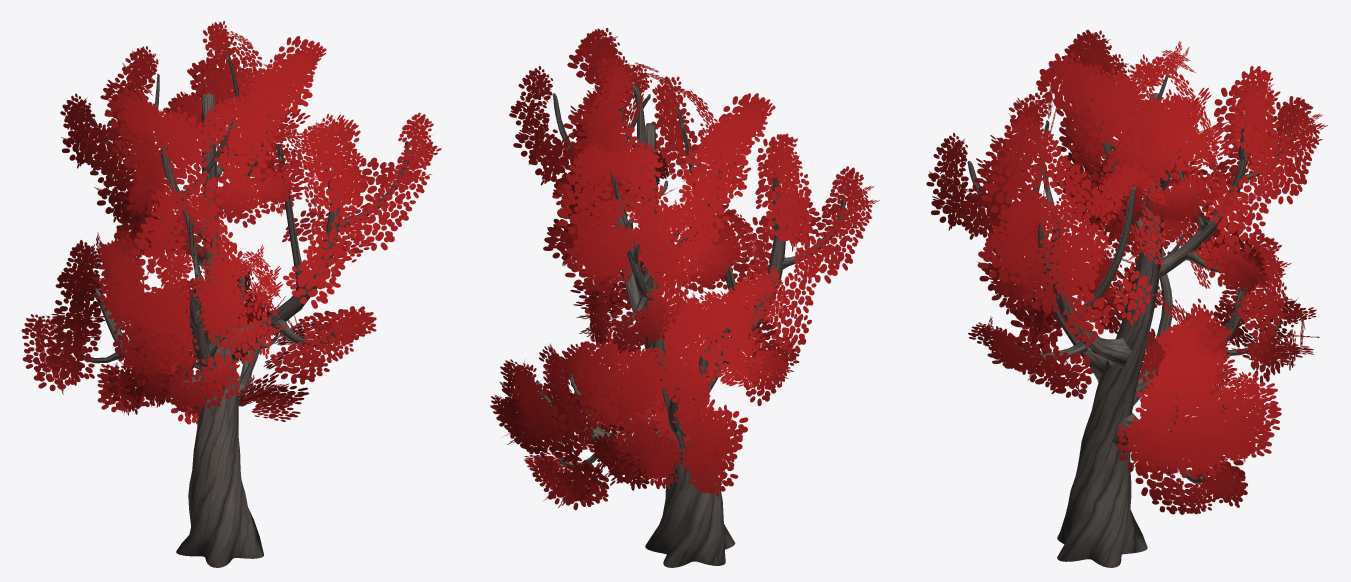
File: quaternius-stylized-nature-twisted-tree-2.glb
3 views of the same model, side by side, from view 1: azimuth 30°, elevation 25°; view 2: azimuth 150°, elevation 25°; view 3: azimuth 270°, elevation 25° (orthographic). The views are drawn at different scales.
Visible parts, largest first — view 1: TwistedTree_3; view 2: TwistedTree_3; view 3: TwistedTree_3.
Boxes of the visible parts, x1=… form: TwistedTree_3: x1=21, y1=21, x2=441, y2=567; TwistedTree_3: x1=490, y1=28, x2=879, y2=567; TwistedTree_3: x1=926, y1=29, x2=1327, y2=567.
Size of the model in its own units: 11.36 by 16.07 by 11.51.
Materials: 2 (2 with a texture image).
